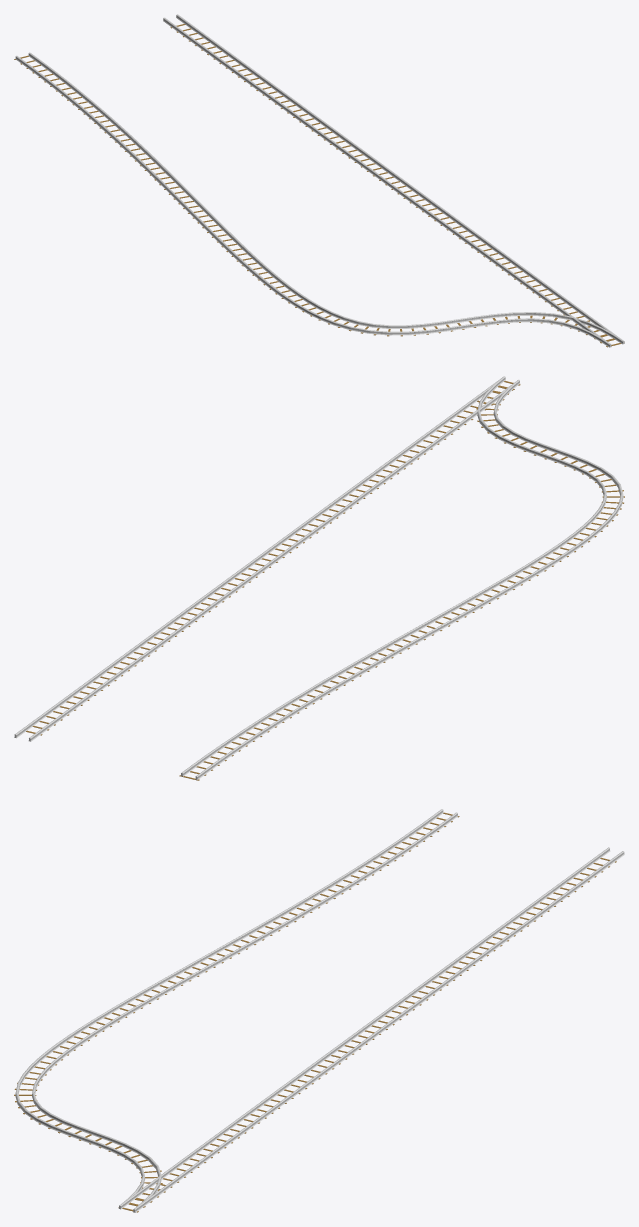
The model's file is coverleaf1.fbx.
3 views of the same model, one above another, from view 1: azimuth 30°, elevation 25°; view 2: azimuth 150°, elevation 25°; view 3: azimuth 330°, elevation 25° (orthographic). The views are drawn at different scales.
Parts seen in each view (by area): view 1: Top, Top.001, Bot, Bot.001; view 2: Top, Top.001, Bot, Bot.001; view 3: Top, Top.001, Bot, Bot.001.
Boxes of the visible parts, x1,y1,x2,y2 form: Top: [15, 52, 624, 347]; Top.001: [163, 14, 623, 347]; Bot: [14, 55, 620, 347]; Bot.001: [170, 24, 620, 345]; Top: [181, 376, 623, 779]; Top.001: [14, 376, 520, 741]; Bot: [179, 381, 624, 780]; Bot.001: [26, 381, 519, 735]; Top: [15, 809, 457, 1212]; Top.001: [119, 847, 624, 1211]; Bot: [14, 812, 459, 1212]; Bot.001: [122, 858, 616, 1211].
Size of the model in its own units: 3983 by 58.2 by 14537.
